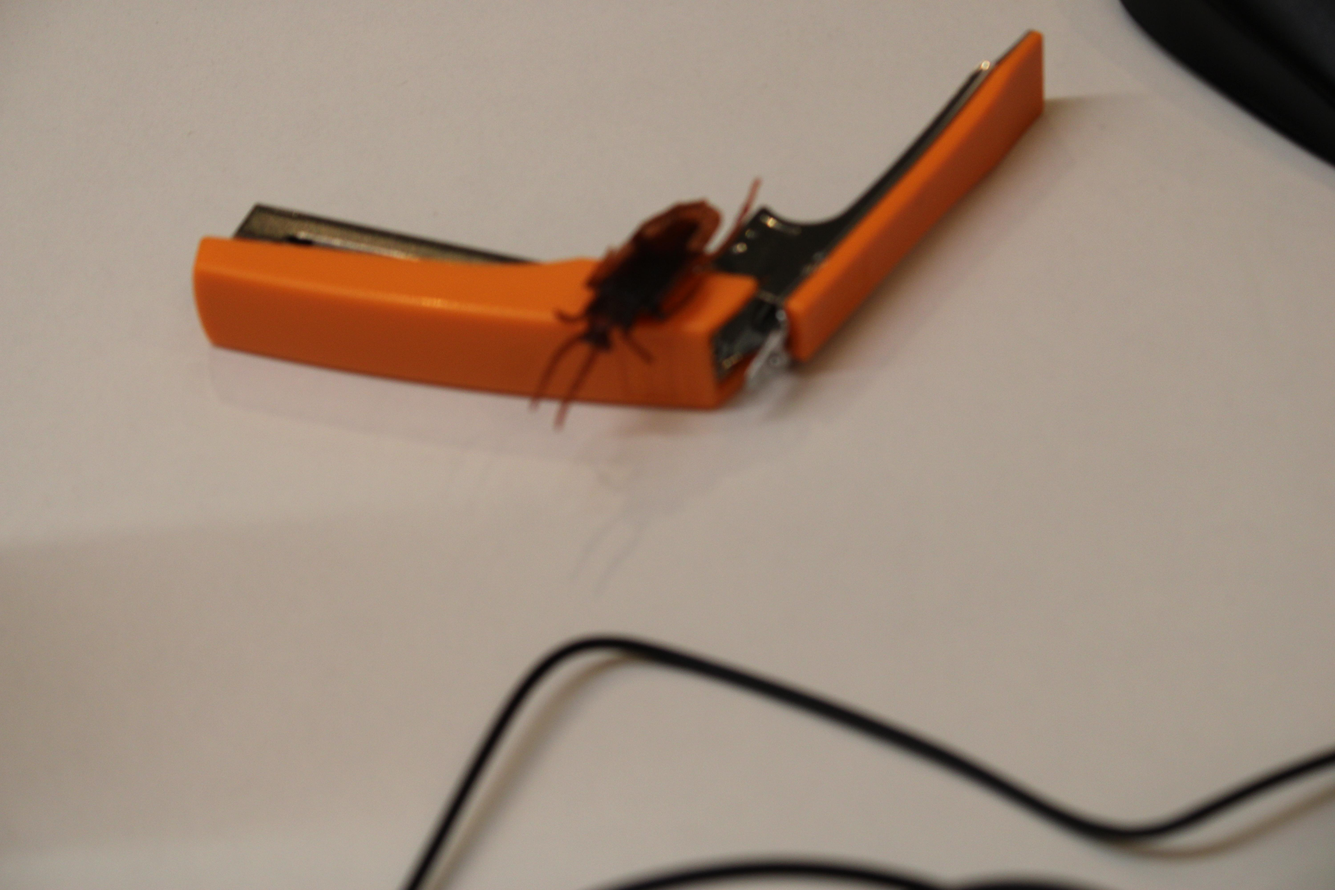cockroach: (521, 187, 734, 427)
